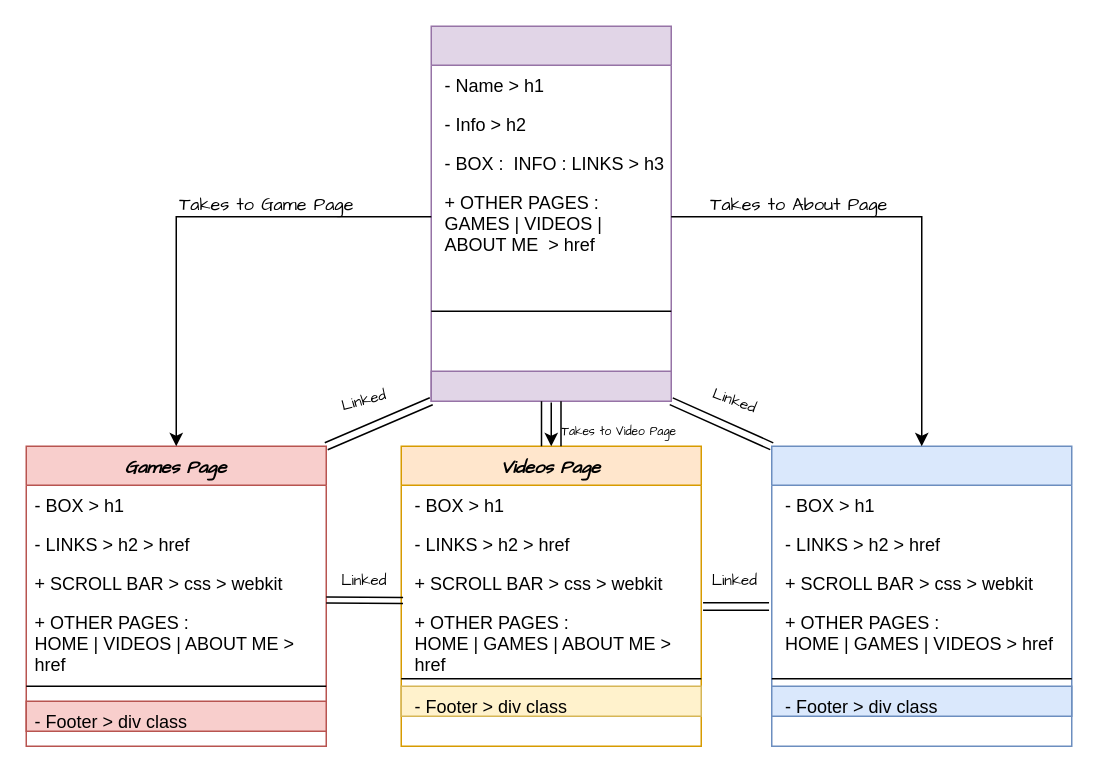
Some shapes in this 1098 by 773 pixel diagram are drawn without their labels. The box of each missing label's shape, as (x1, y1, x2, y2) in pixels:
About Me Page: (770, 445, 1072, 746)
Footer: (430, 370, 671, 401)
Home Page: (430, 25, 671, 401)
